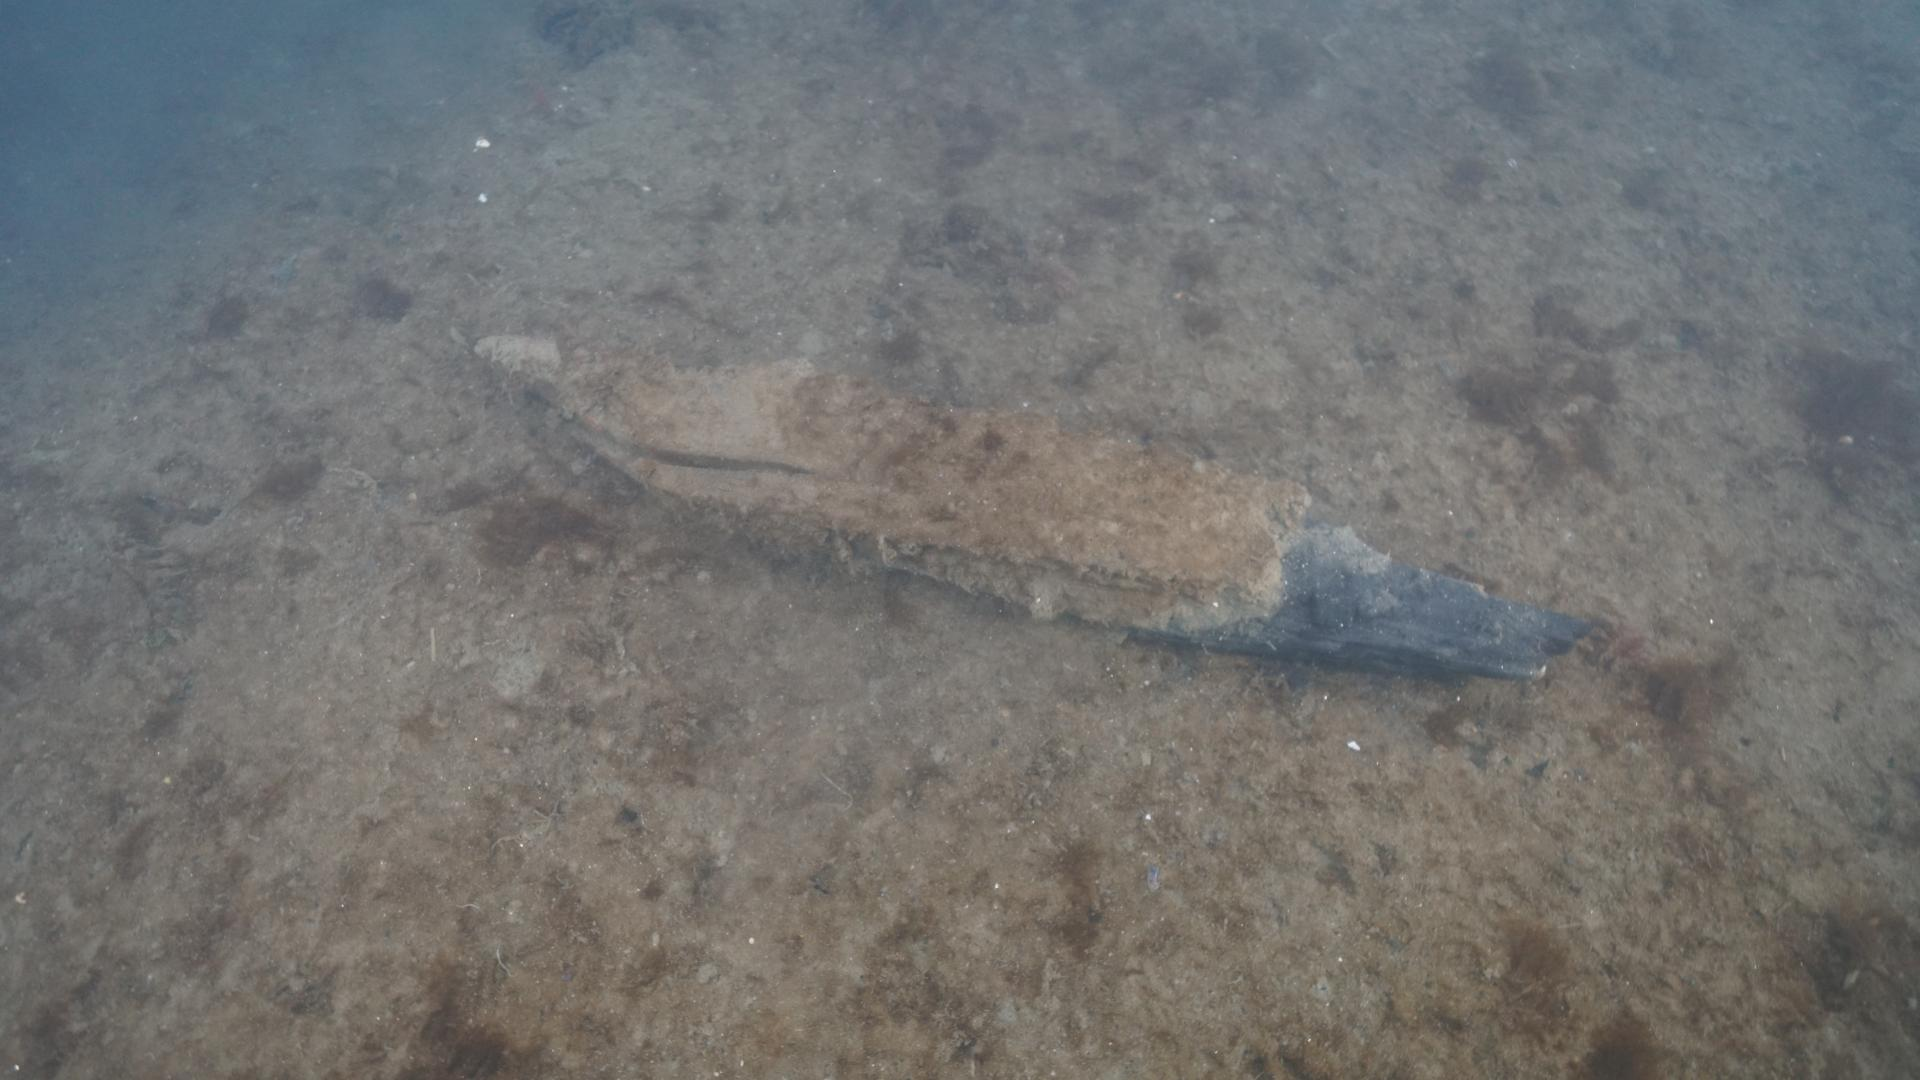wood: (473, 334, 1592, 684)
